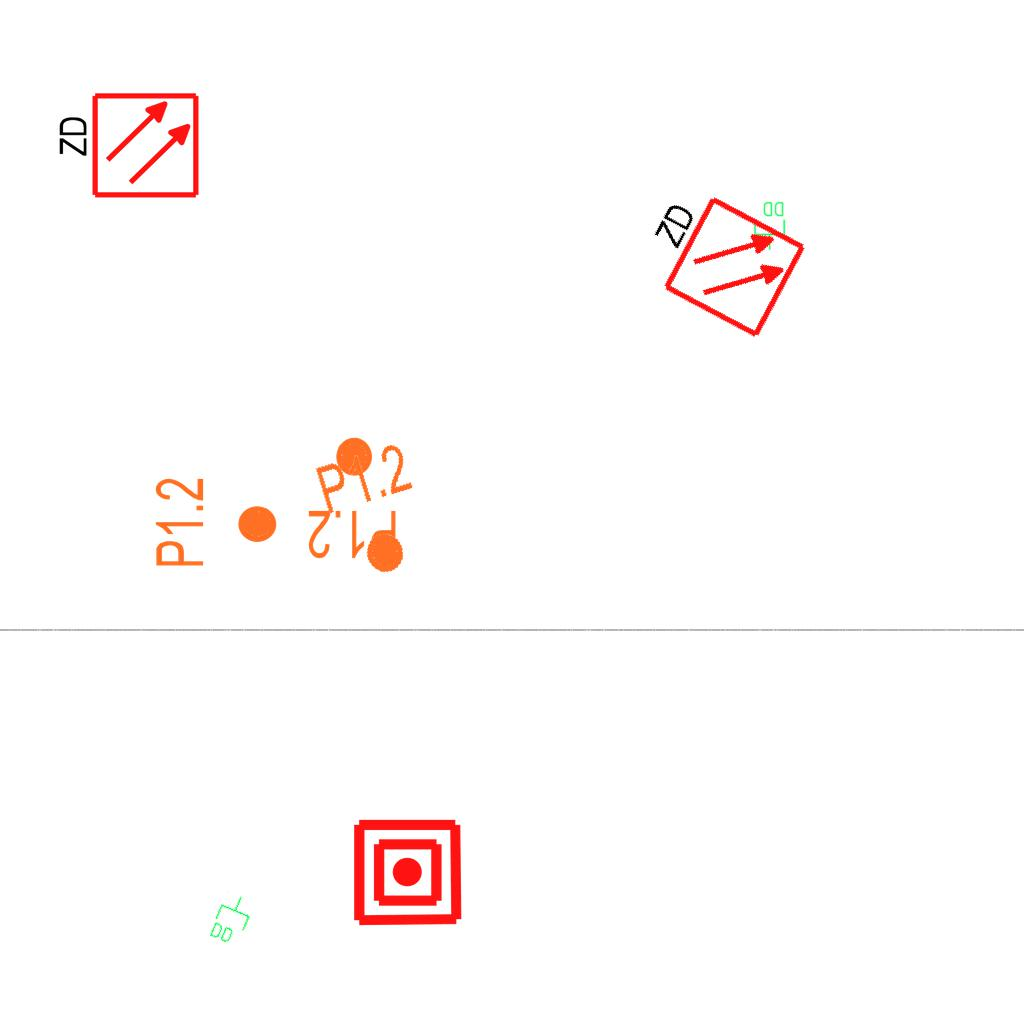Datenanschluss_zweifach: (205, 888, 258, 950), (753, 200, 787, 251)
Downlight_LED_Einbauleuchten_Flur: (311, 438, 438, 588), (306, 434, 399, 562), (152, 476, 280, 569)
NAM-Nichtautomatischer_Melder: (351, 816, 464, 929)
ZD_Melder_in_Zwischendecke_mit_Revisionsoeffnung_mind_40_x_40_cm: (624, 174, 810, 345), (52, 90, 201, 204)
